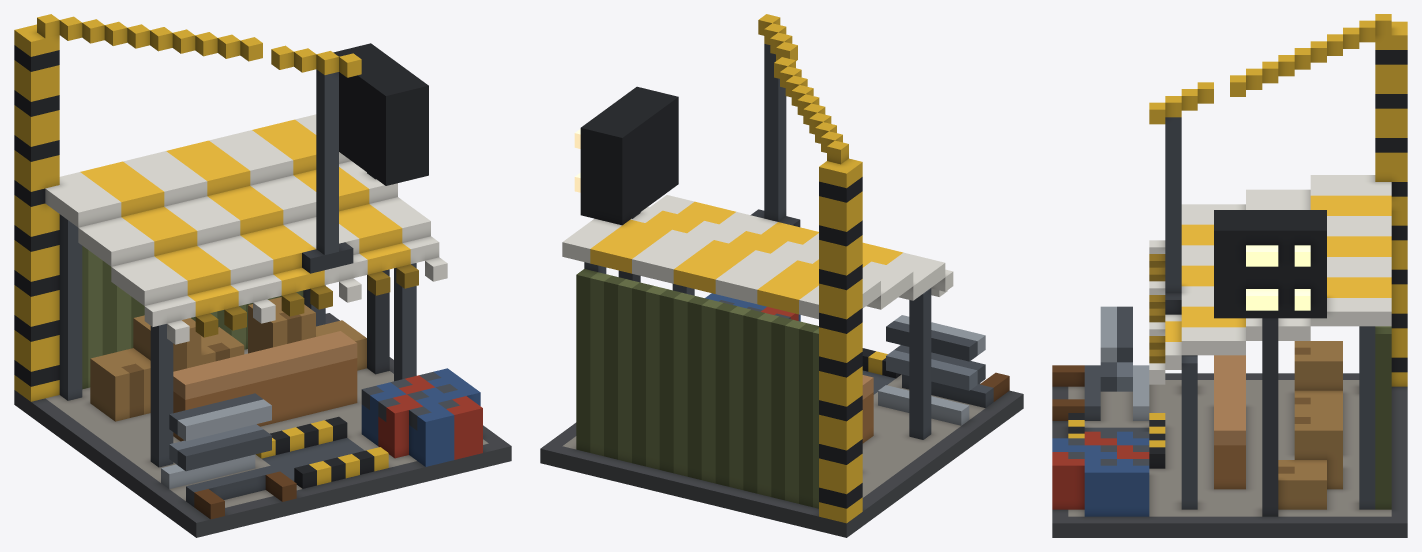
Rendered from cm_market_2.glb.
3 renders of one model, left to right at view 1: azimuth 30°, elevation 25°; view 2: azimuth 150°, elevation 25°; view 3: azimuth 270°, elevation 25°, orthographic. The views are drawn at different scales.
Visible parts, largest first — view 1: cm_market_2_body; view 2: cm_market_2_body; view 3: cm_market_2_body.
Part boxes in pixels (x1=…): cm_market_2_body: x1=14, y1=14, x2=511, y2=537; cm_market_2_body: x1=540, y1=14, x2=1023, y2=537; cm_market_2_body: x1=1052, y1=14, x2=1407, y2=537.
Size of the model in its own units: 1.44 by 1.62 by 1.38.
1 material, 1 textured.
